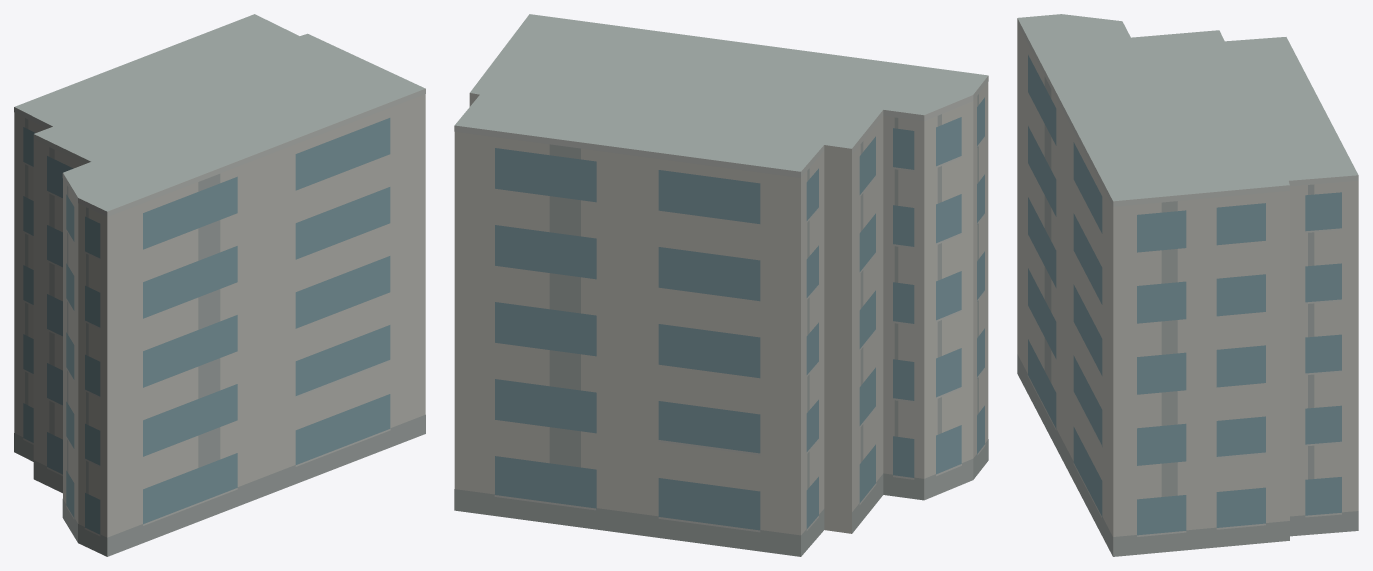
The model's file is survey-upis-32644805.glb.
3 renders of one model, left to right at view 1: azimuth 30°, elevation 25°; view 2: azimuth 150°, elevation 25°; view 3: azimuth 270°, elevation 25°, orthographic. The views are drawn at different scales.
Parts seen in each view (by area): view 1: survey-upis-32644805.tmp; view 2: survey-upis-32644805.tmp; view 3: survey-upis-32644805.tmp.
Boxes of the visible parts, left/top/right/bottom form: survey-upis-32644805.tmp: left=14, top=14, right=425, bottom=556; survey-upis-32644805.tmp: left=454, top=14, right=988, bottom=556; survey-upis-32644805.tmp: left=1017, top=14, right=1358, bottom=556.
Size of the model in its own units: 17.24 by 15.25 by 13.28.
